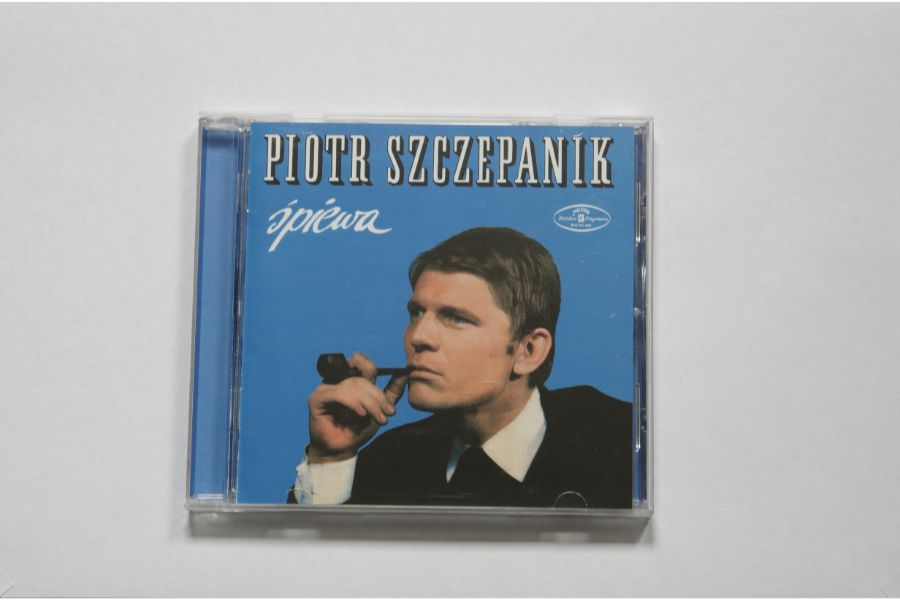album: (183, 112, 652, 519)
